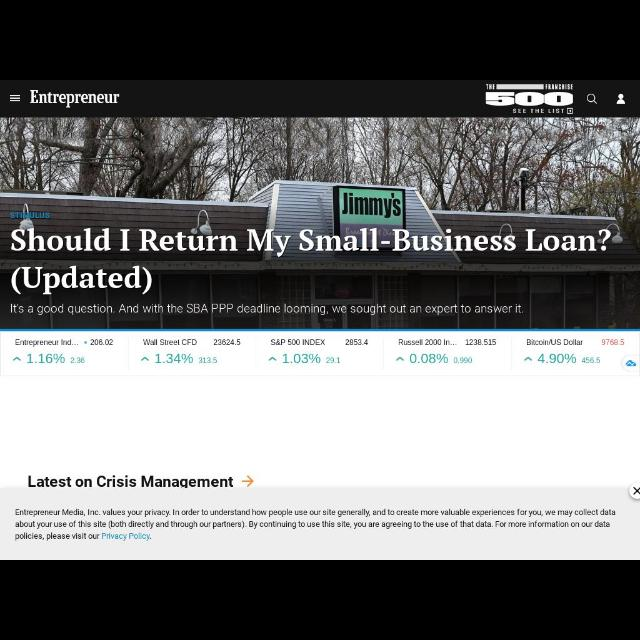backgroundimage: (1, 118, 639, 328)
button: (629, 484, 639, 498)
icon: (8, 92, 22, 104), (240, 474, 254, 486), (586, 94, 598, 104), (616, 93, 626, 105), (625, 359, 637, 369), (524, 354, 534, 364), (140, 356, 148, 364), (268, 356, 276, 362), (396, 356, 404, 362), (632, 488, 640, 494), (14, 356, 20, 362)
image: (486, 83, 574, 115)
text: (10, 227, 610, 295), (15, 508, 618, 542), (9, 302, 524, 318), (27, 474, 234, 492), (30, 89, 120, 109), (15, 338, 116, 349), (156, 352, 220, 366), (409, 353, 473, 365), (283, 352, 343, 364), (28, 353, 86, 365), (538, 354, 602, 364), (270, 338, 328, 347), (398, 338, 458, 346), (525, 338, 585, 346), (142, 339, 198, 347), (10, 212, 50, 220), (464, 338, 498, 346), (212, 338, 242, 346), (602, 338, 624, 348), (344, 338, 370, 346)
toolbar: (1, 81, 639, 117)
